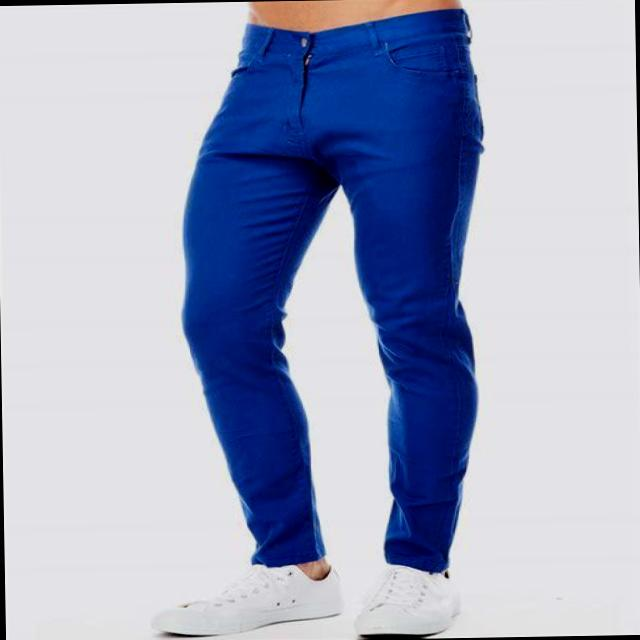pants: (178, 6, 493, 579)
